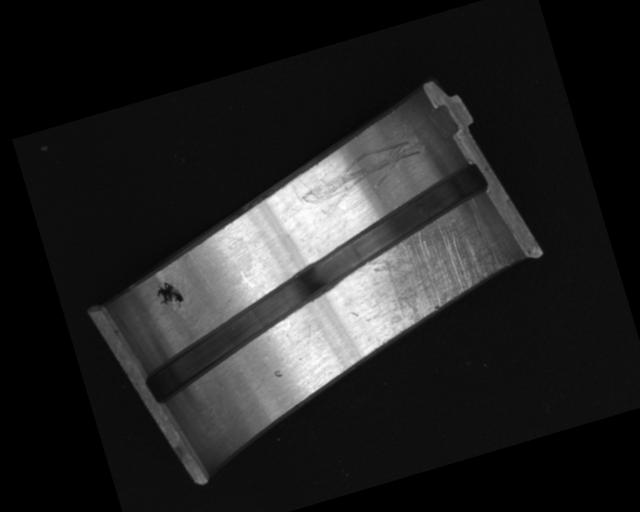blot: (152, 277, 185, 314)
bruise: (271, 366, 284, 380)
gap: (109, 161, 523, 408)
nick: (292, 133, 432, 219)
scratch: (340, 193, 522, 349)
